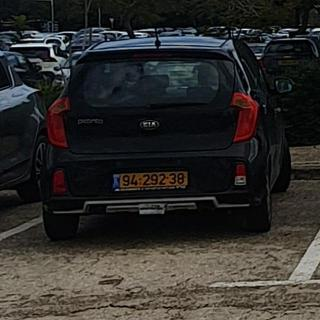LicensePlate: (120, 172, 188, 187)
